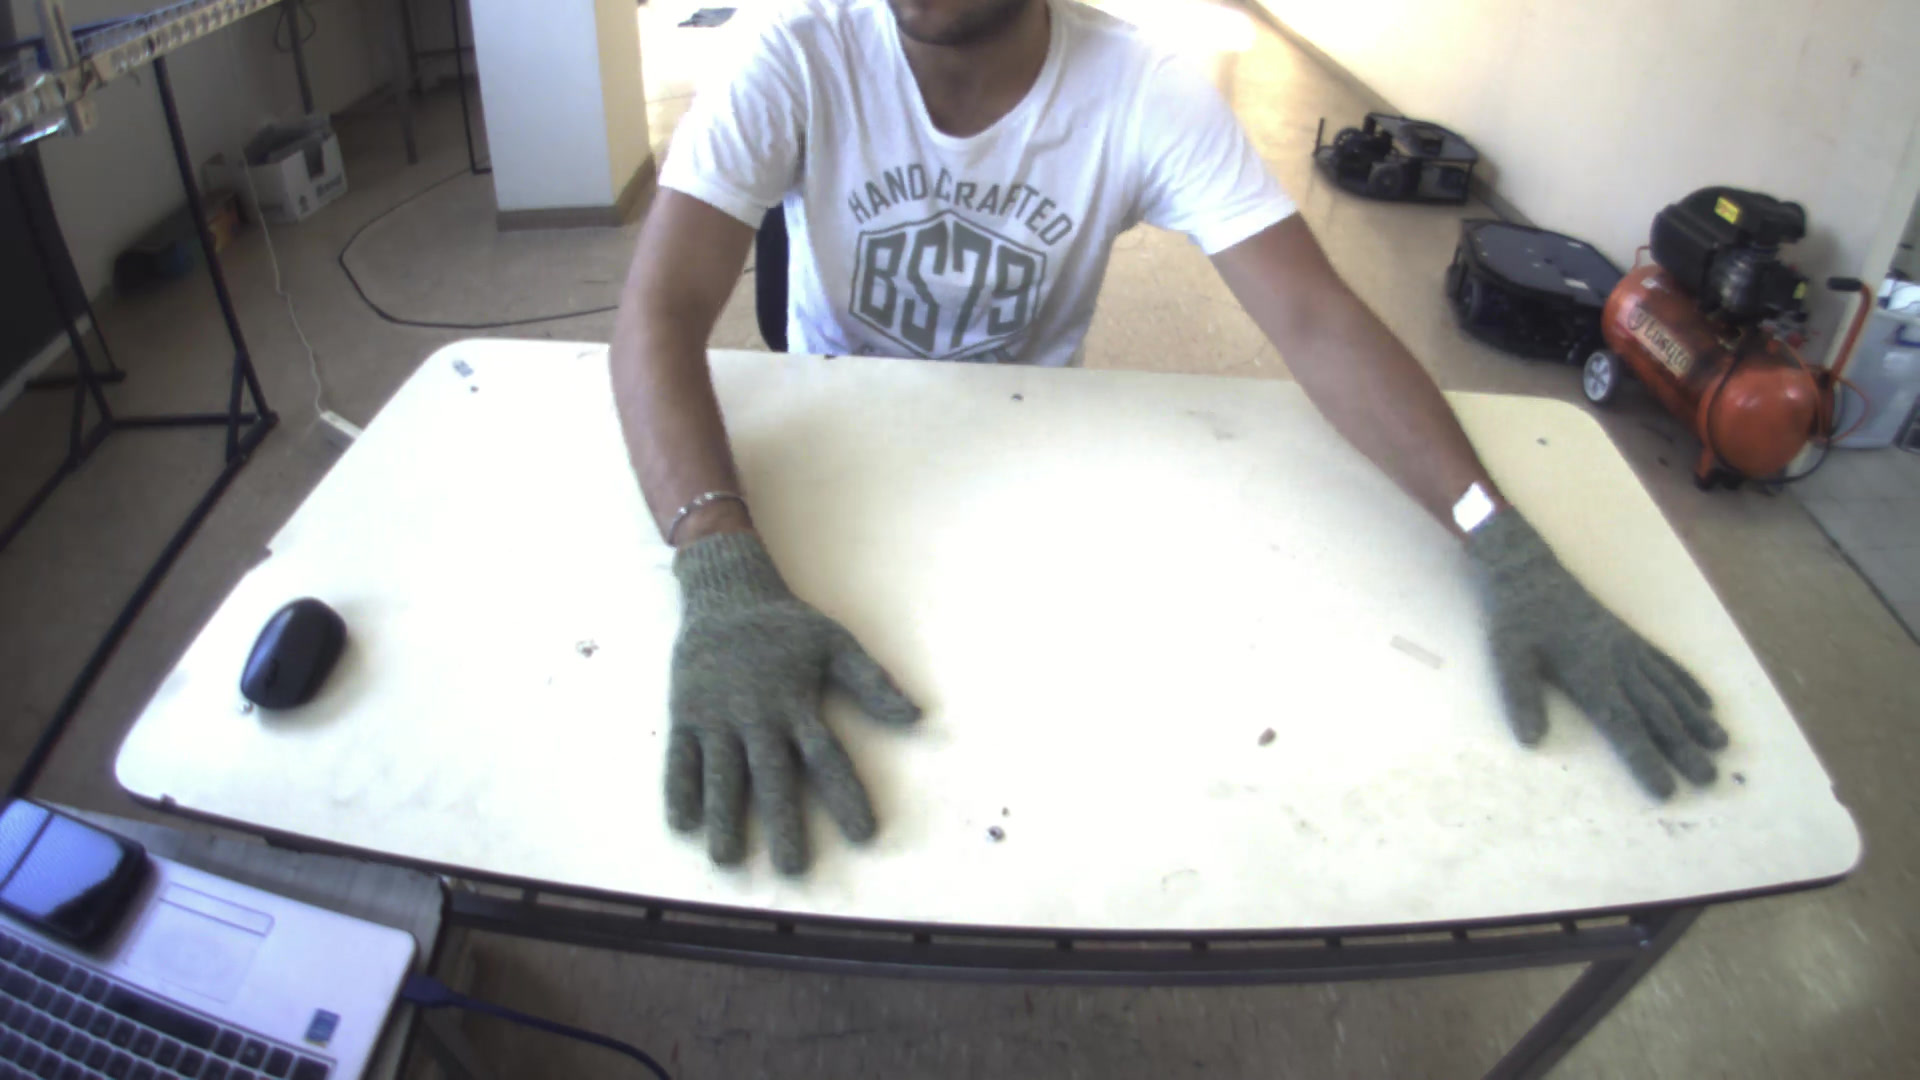hand: (638, 549, 943, 889), (1455, 498, 1731, 804)
